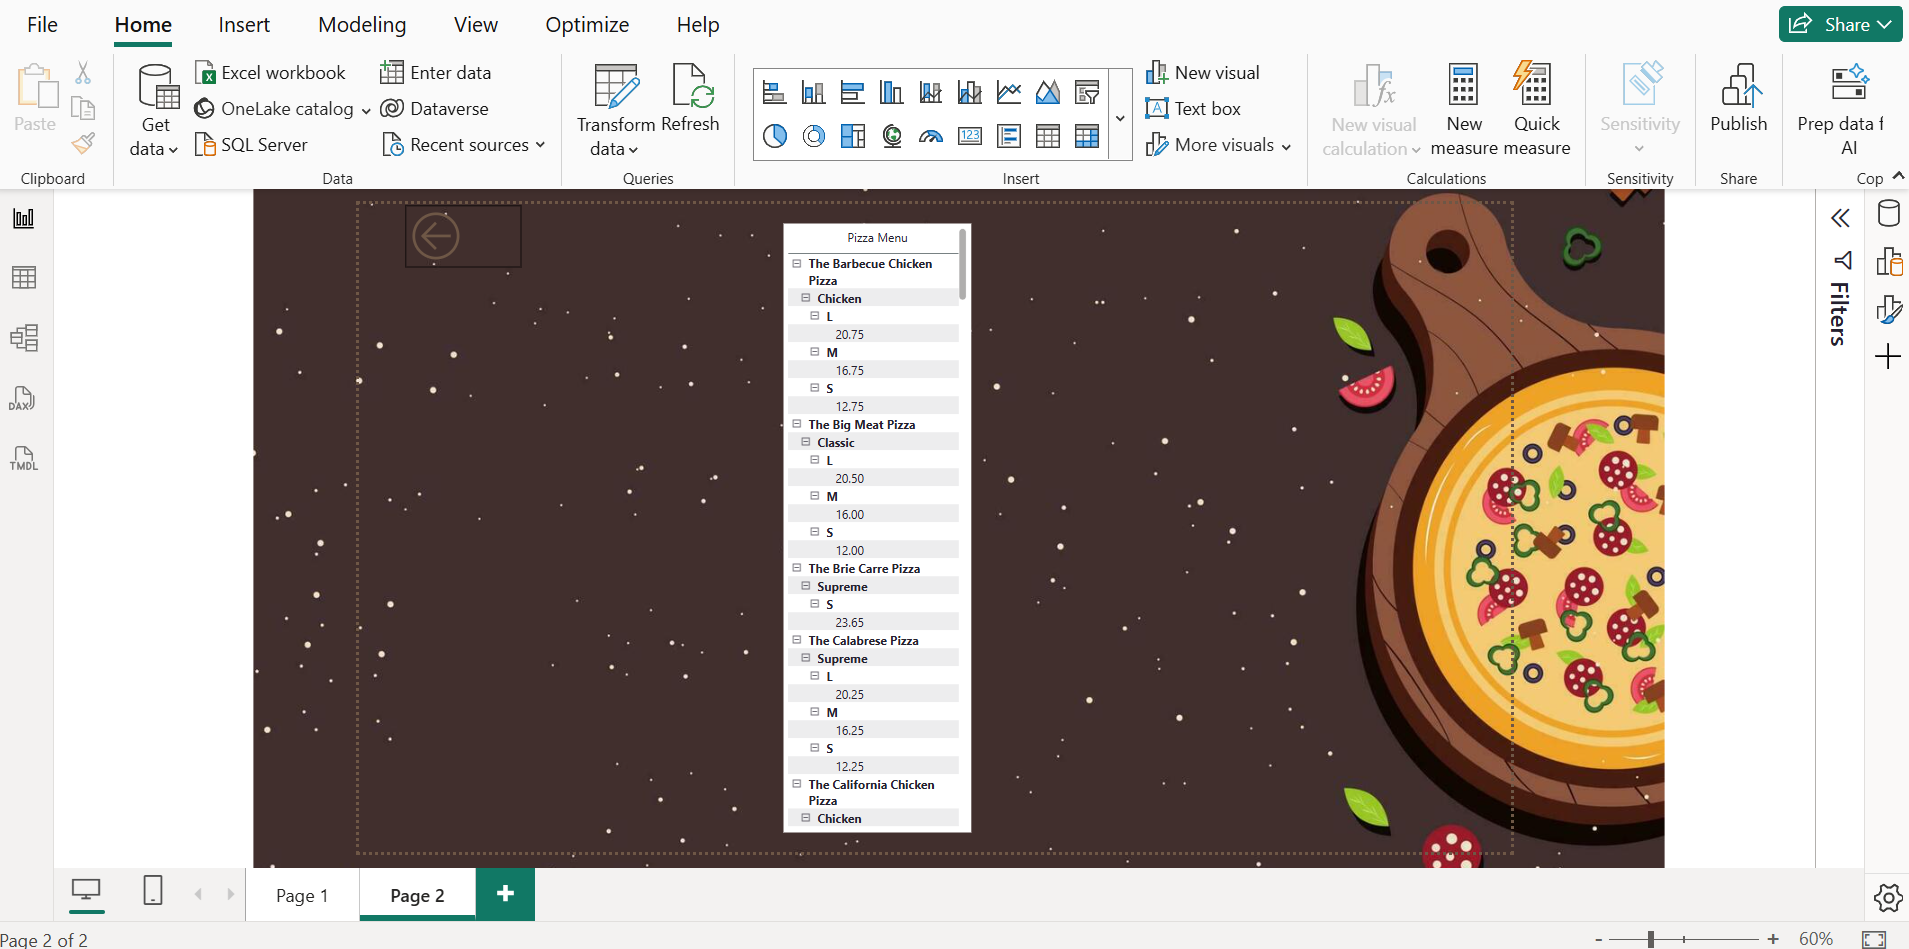

Layout of this report page (visuals, bound fields, positions):
{"tool":"powerbi","page":{"name":"Page 2","canvas":[1280,720],"ordinal":1},"visuals":[{"type":"pivotTable","fields":{"Rows":["pizza_types.Name","pizza_types.Category","pizzas.size","pizzas.price"]},"box":[471.7,21.7,208.3,676.7],"z":0},{"type":"actionButton","box":[51.7,1.7,128.3,68.3],"z":1000}]}

Visuals, with their boxes on the page's 1280x720 design canvas (x1, y1, x2, y2). These are canvas units, not pixel positions in the 1909x949 screenshot, which may show the page scaled, cropped or inside an application window:
pivotTable - pizza_types.Name x pizza_types.Category: x1=472, y1=22, x2=680, y2=698
actionButton: x1=52, y1=2, x2=180, y2=70
